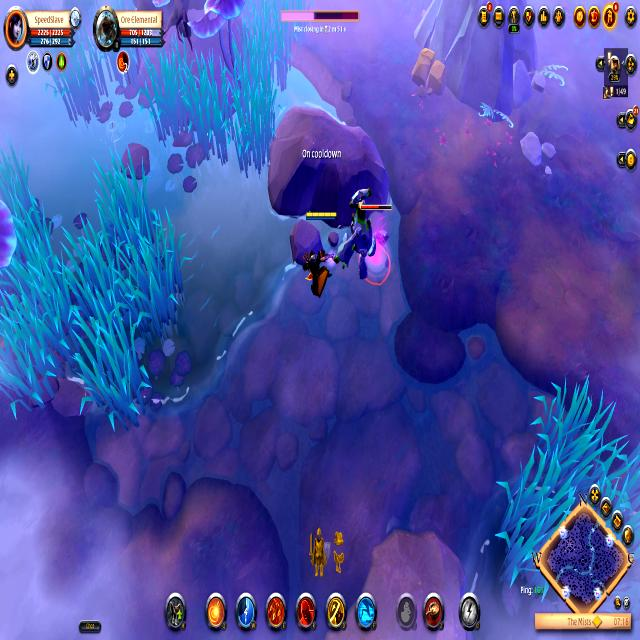ore: (346, 183, 398, 290)
red: (298, 208, 340, 302)
tree: (408, 43, 448, 103)
